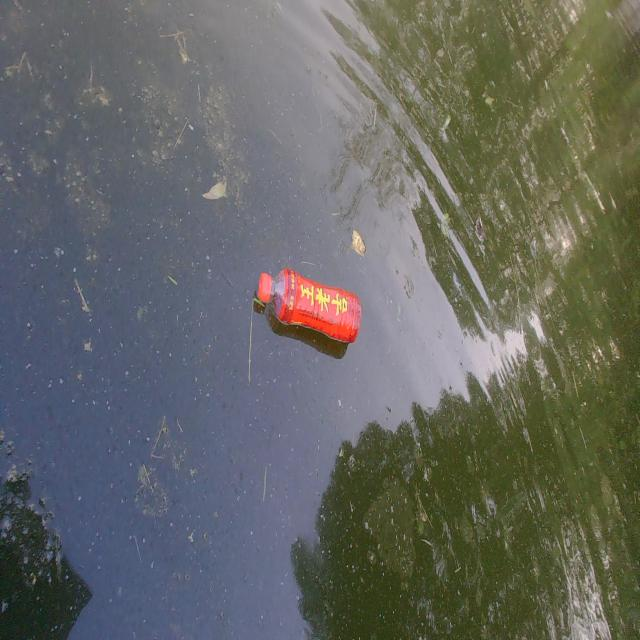Bottle: (254, 266, 364, 348)
